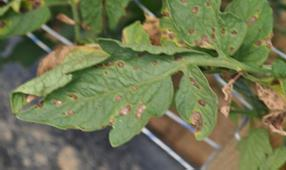Tomato Early blight leaf: (7, 44, 196, 143), (161, 0, 247, 55), (174, 59, 220, 143), (0, 0, 62, 38)
